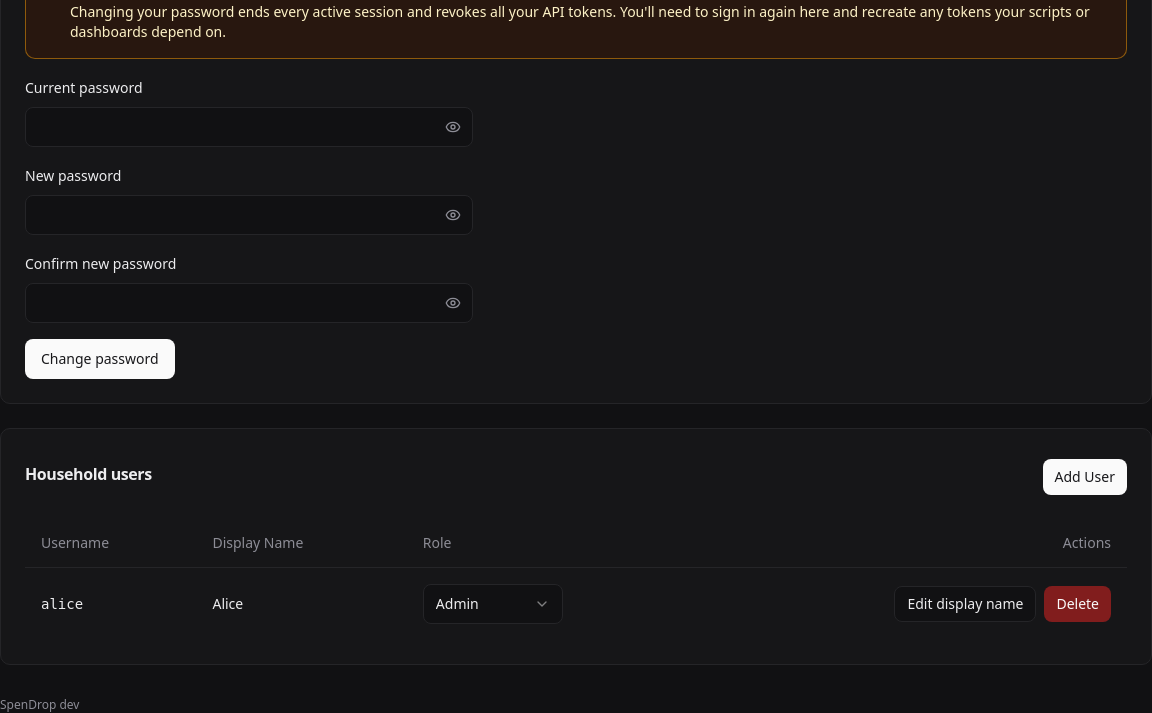
Test: Settings › as admin › display name editor › the confirmation says the ledger is not at stake
(page scrolled)
Click the button with aria-label "delete alice" at coordinates (1078, 604), box [1044, 586, 1111, 622]
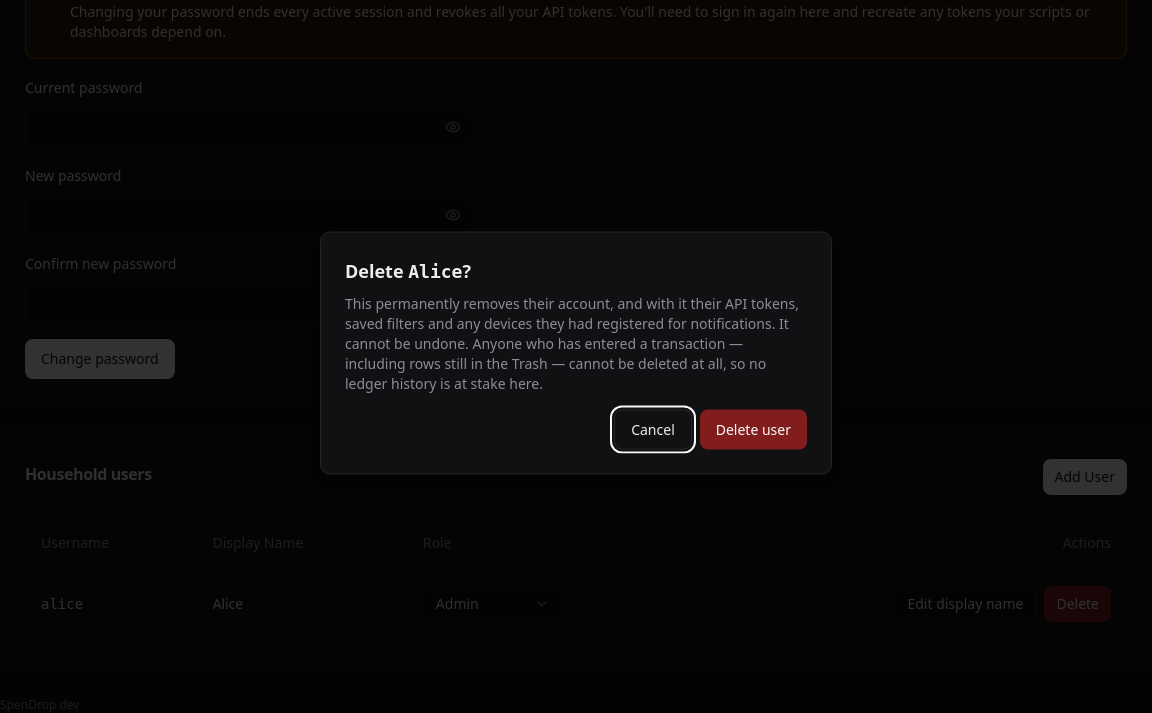
Expected: the text "no ledger history is at stake" is shown, [345, 294, 799, 392]
